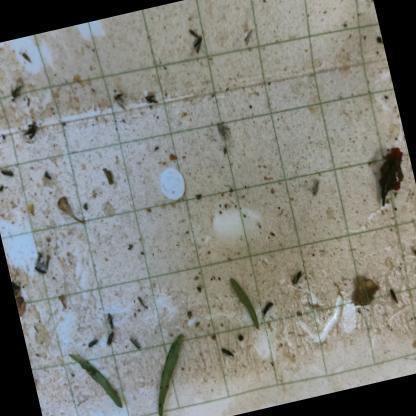prays_oleae: (20, 112, 42, 148), (1, 74, 26, 105), (29, 249, 56, 277), (186, 25, 208, 58), (110, 89, 132, 118), (141, 89, 164, 112), (288, 266, 308, 291), (219, 340, 238, 364), (304, 176, 324, 197), (103, 312, 118, 332), (85, 336, 100, 352), (105, 330, 118, 348)
